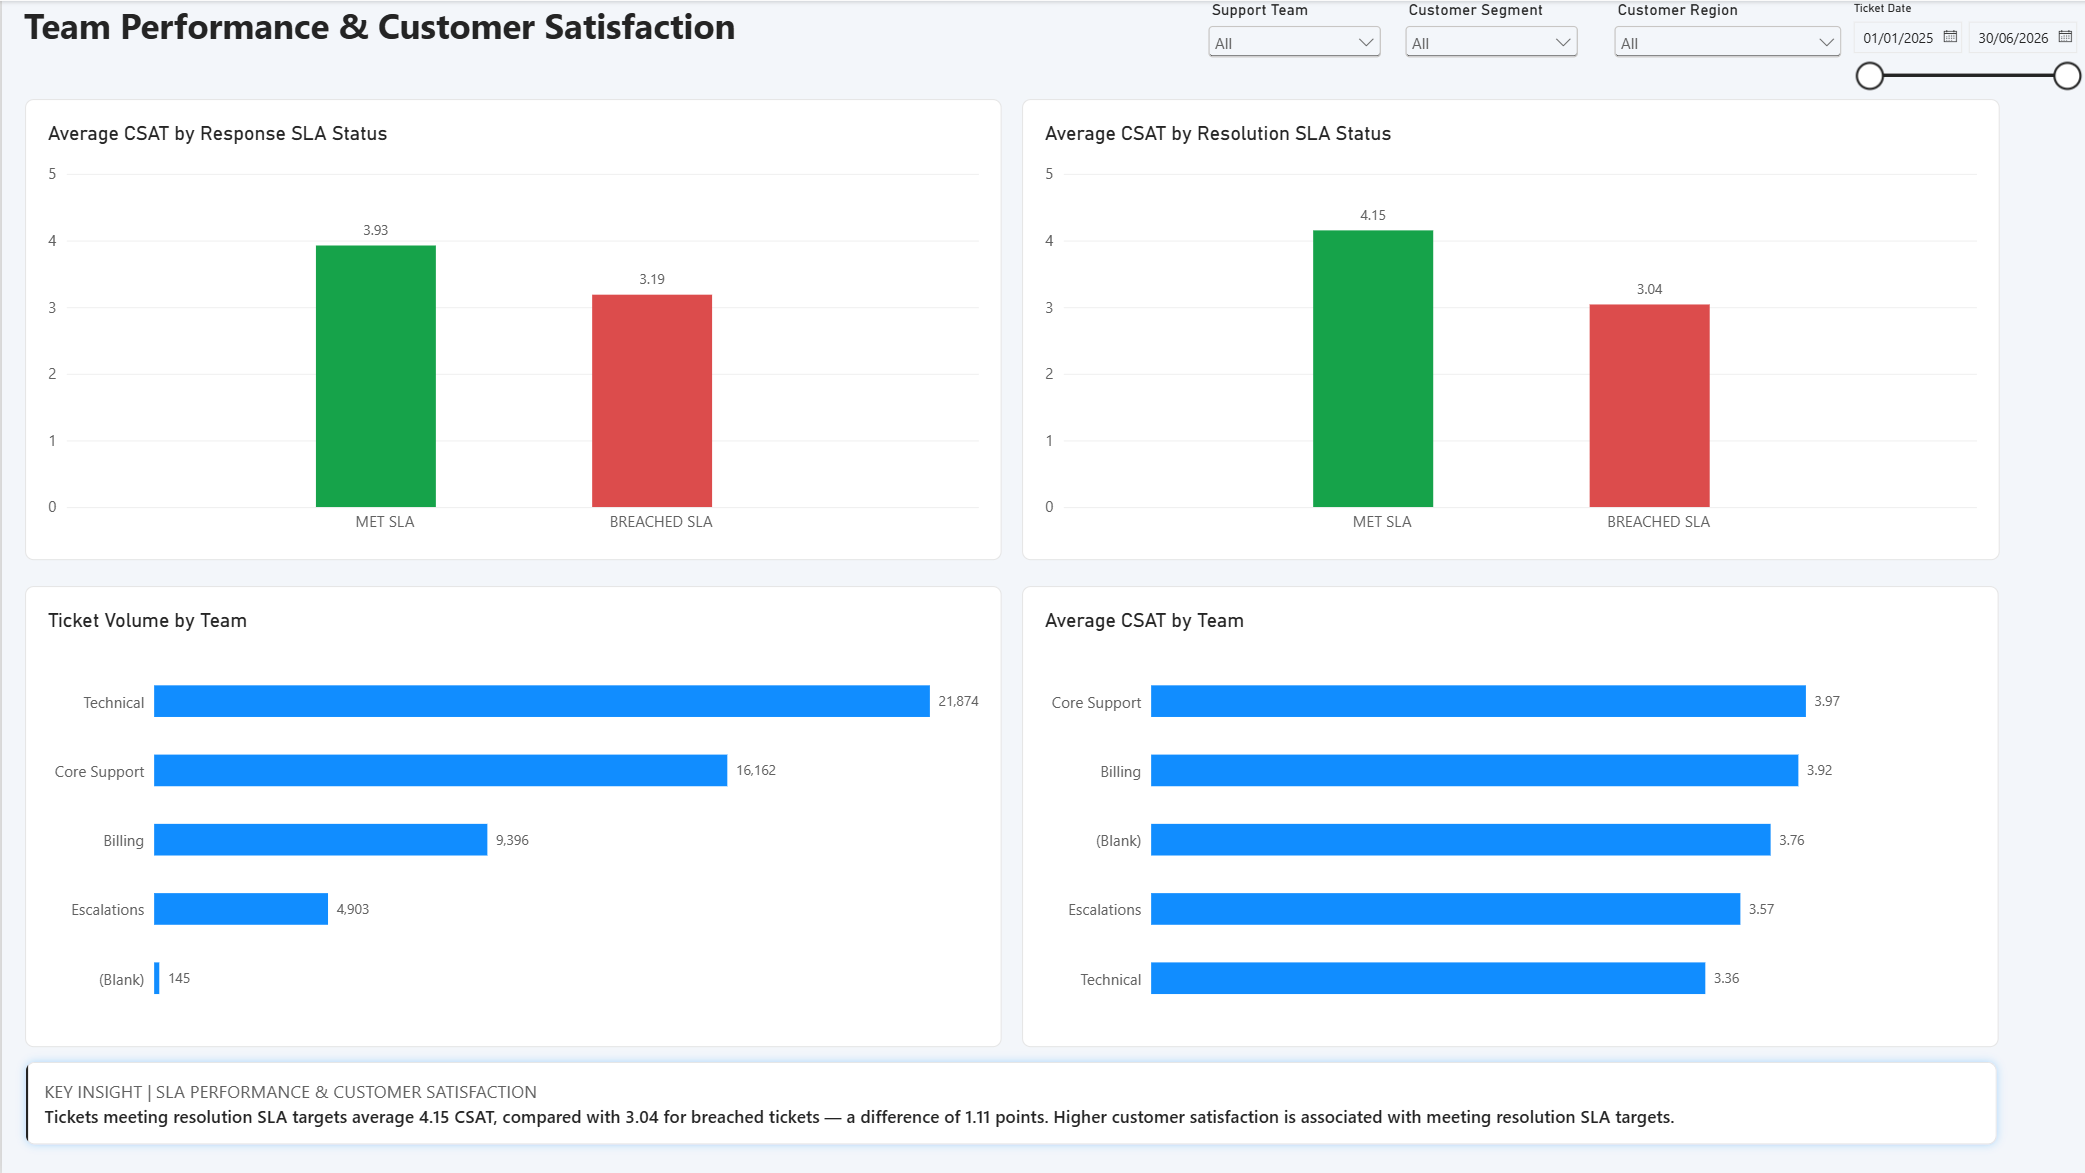

The page's visual inventory and layout, read from the dashboard file:
{"tool":"powerbi","page":{"name":"Team Performance & Customer Satisfaction","canvas":[1920,1080],"ordinal":2},"visuals":[{"type":"textbox","box":[20.6,0,661.6,63.8],"z":0},{"type":"clusteredColumnChart","title":"Average CSAT by Response SLA Status","fields":{"Category":["vw_ticket_analysis.response_sla_status"],"Y":["vw_ticket_analysis.Average CSAT"]},"box":[20.8,90,900,425],"z":1000},{"type":"clusteredColumnChart","title":"Average CSAT by Resolution SLA Status","fields":{"Category":["vw_ticket_analysis.resolution_sla_status"],"Y":["vw_ticket_analysis.Average CSAT"]},"box":[940,90,900.8,425],"z":2000},{"type":"slicer","fields":{"Values":["vw_ticket_analysis.region"]},"box":[1481.1,0,218.8,64.2],"z":2500},{"type":"clusteredBarChart","title":"Ticket Volume by Team","fields":{"Category":["vw_ticket_analysis.team"],"Y":["vw_ticket_analysis.Total Tickets"]},"box":[20.8,539,899.9,425.3],"z":3000},{"type":"clusteredBarChart","title":"Average CSAT by Team","fields":{"Category":["vw_ticket_analysis.team"],"Y":["vw_ticket_analysis.Average CSAT"]},"box":[939.6,539,899.9,425.3],"z":4000},{"type":"slicer","fields":{"Values":["vw_ticket_analysis.created_at"]},"box":[1698.4,0,221.6,83.4],"z":5000},{"type":"slicer","title":"Team","fields":{"Values":["vw_ticket_analysis.team"]},"box":[1106.5,0,168.6,61.7],"z":6000},{"type":"slicer","fields":{"Values":["vw_ticket_analysis.customer_segment"]},"box":[1288.2,0,168.6,53.4],"z":7000},{"type":"cardVisual","fields":{"Data":["vw_ticket_analysis.Dynamic CSAT Insight"]},"box":[11.4,967.1,1838.5,98.5],"z":7002}]}

Visuals, with their boxes in screenshot pixels (x1, y1, x2, y2), scaled from the page's 1920x1080 canvas onto the 2085x1173 screenshot:
textbox: (22, 0, 741, 69)
"Average CSAT by Response SLA Status" clusteredColumnChart: (23, 98, 1000, 559)
"Average CSAT by Resolution SLA Status" clusteredColumnChart: (1021, 98, 1999, 559)
slicer - vw_ticket_analysis.region: (1608, 0, 1846, 70)
"Ticket Volume by Team" clusteredBarChart: (23, 585, 1000, 1047)
"Average CSAT by Team" clusteredBarChart: (1020, 585, 1998, 1047)
slicer - vw_ticket_analysis.created_at: (1844, 0, 2084, 91)
"Team" slicer: (1202, 0, 1385, 67)
slicer - vw_ticket_analysis.customer_segment: (1399, 0, 1582, 58)
cardVisual - vw_ticket_analysis.Dynamic CSAT Insight: (12, 1050, 2009, 1157)
